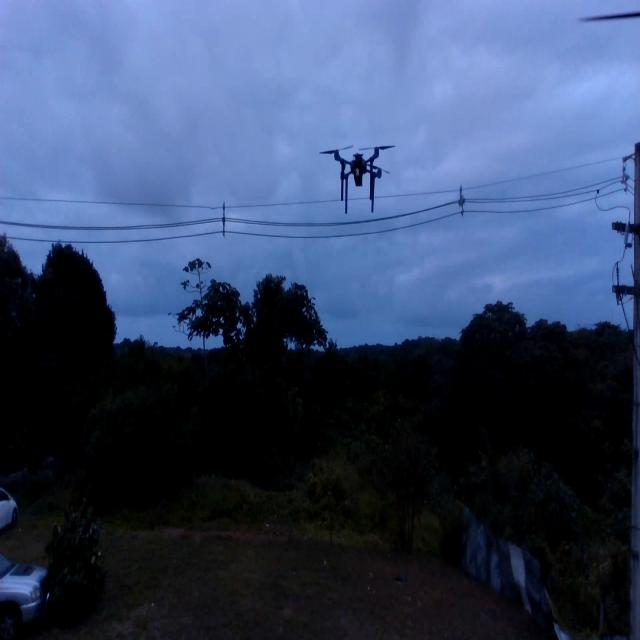-uav-: (313, 133, 399, 218)
